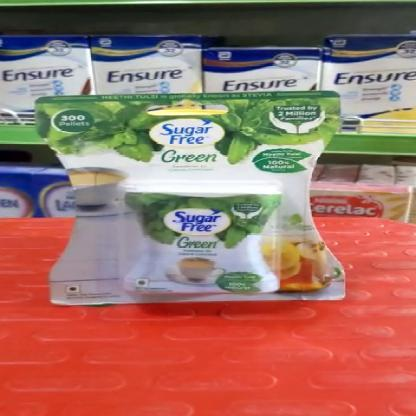SUGAR FREE GRN 300 PELLET: (43, 90, 342, 308)
